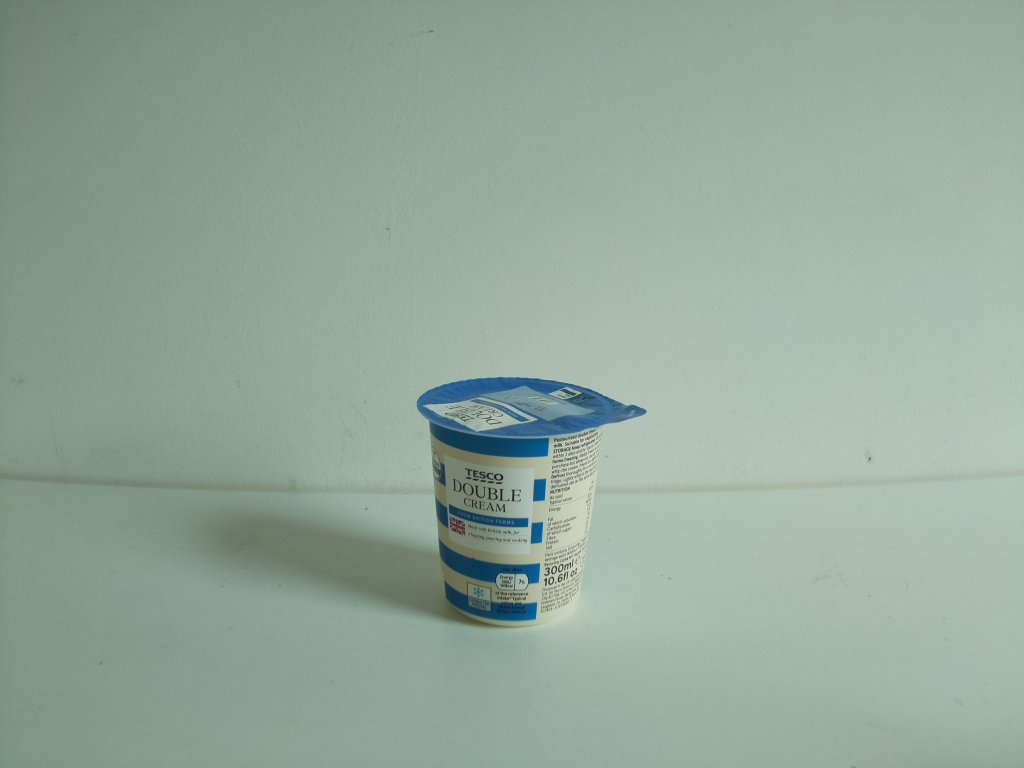cream: (417, 380, 647, 631)
